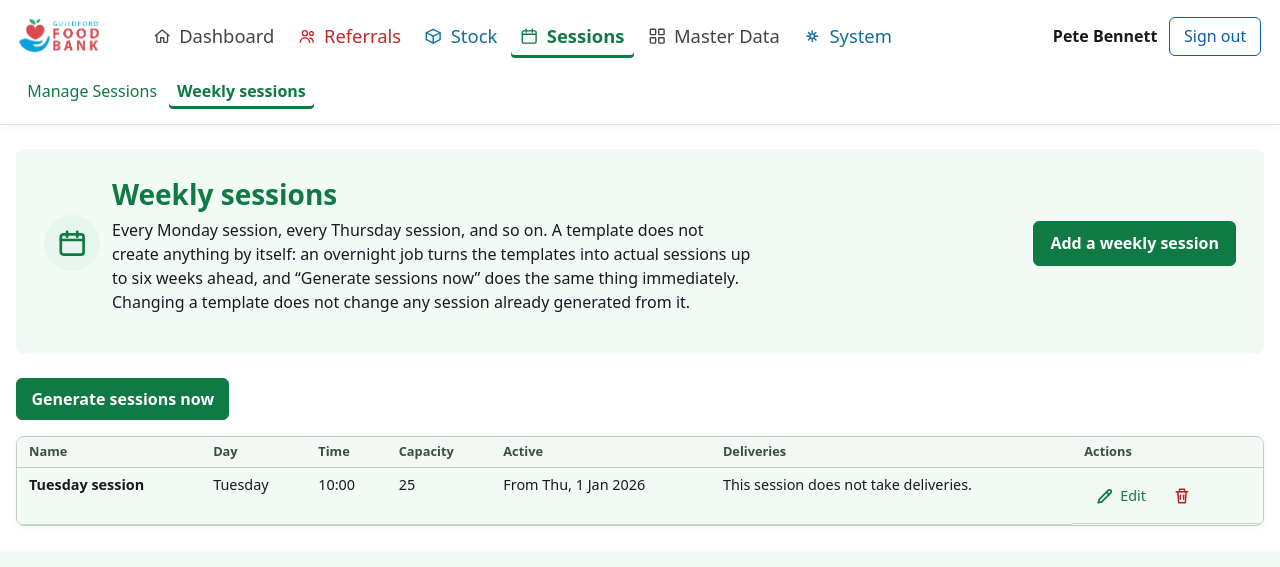
generating sessions from the templates › reports how many sessions were created
This screenshot has width=1280, height=567.
What coordinates should you click on to do the following:
click the button "Generate sessions now"
I would click on:
 (123, 399)
Its box is [16, 378, 230, 420].
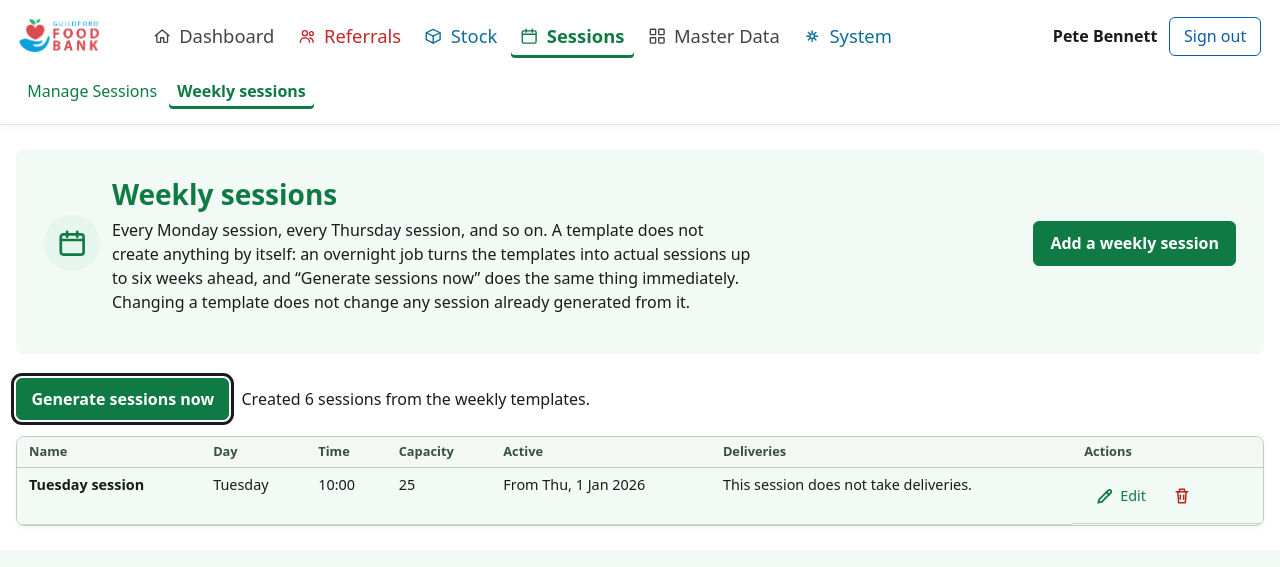
Result: the text "Created 6 sessions from the weekly templates." is shown at [242, 387, 590, 411]
